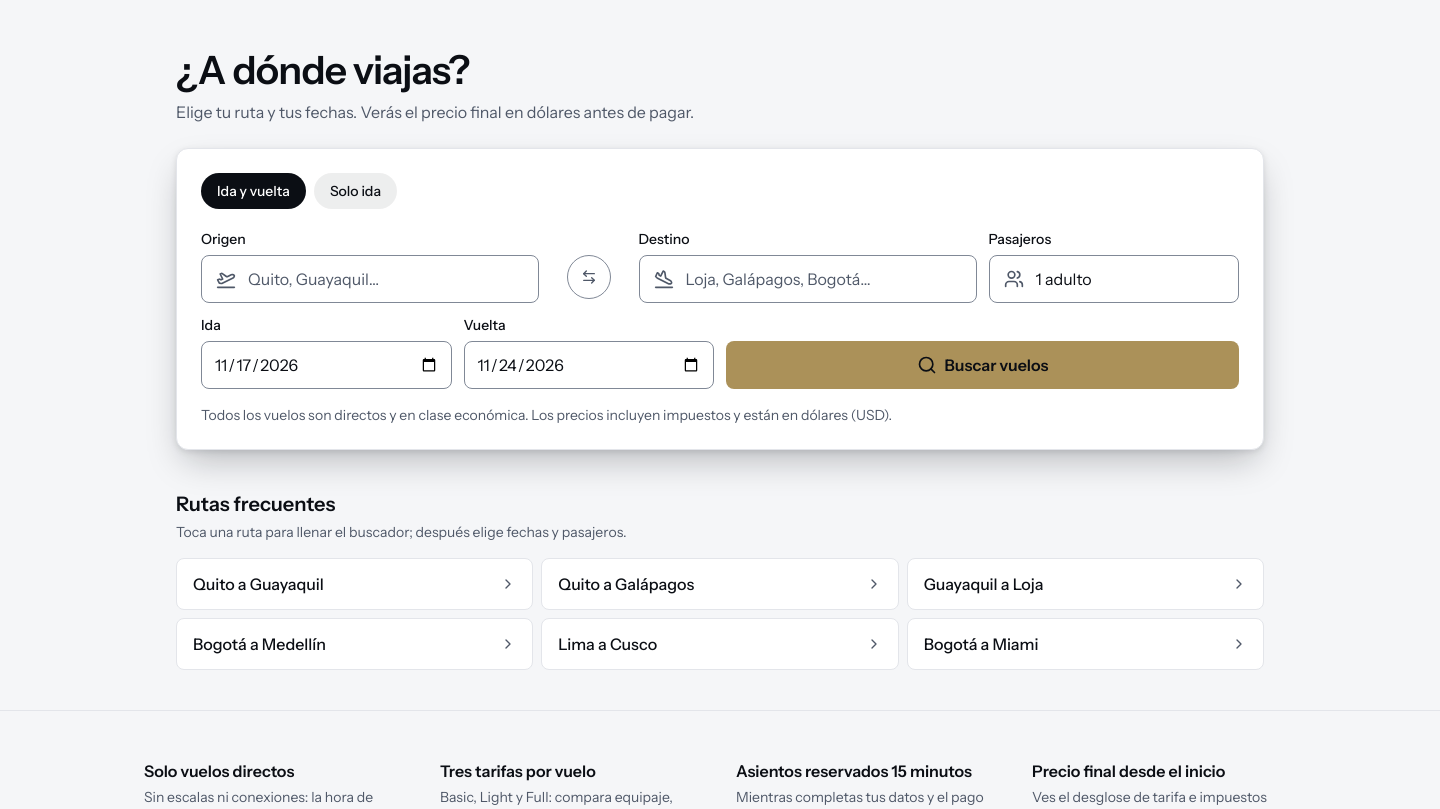
Home: the search is the hero › a route shortcut fills the form instead of searching
Click the button "Quito a Guayaquil" at (214,584), box [176,558,533,610]
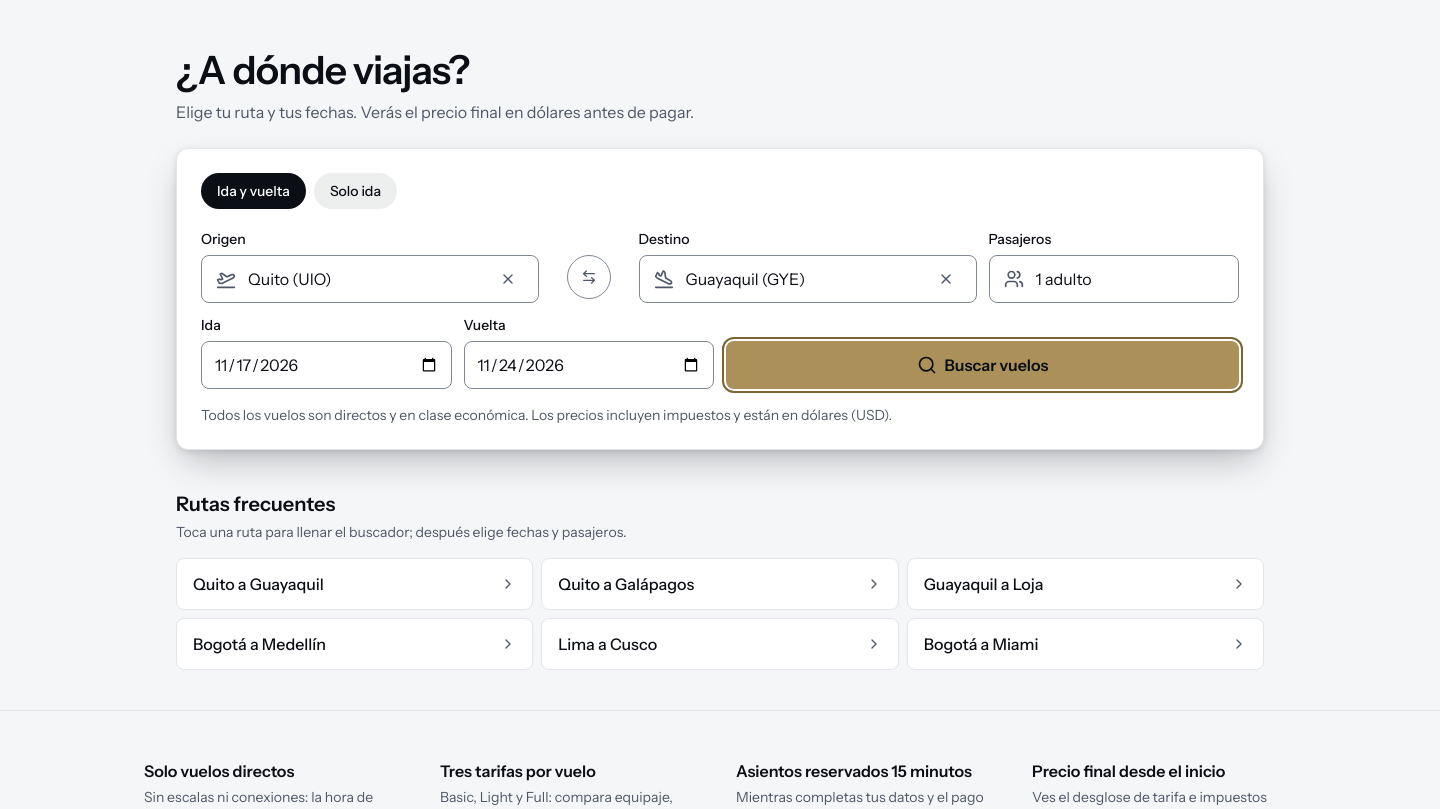
Expected: the dropdown labelled "Origen" holds "Quito (UIO)", [248,267,488,291]
Expected: the dropdown labelled "Destino" holds "Guayaquil (GYE)", [686,267,926,291]
